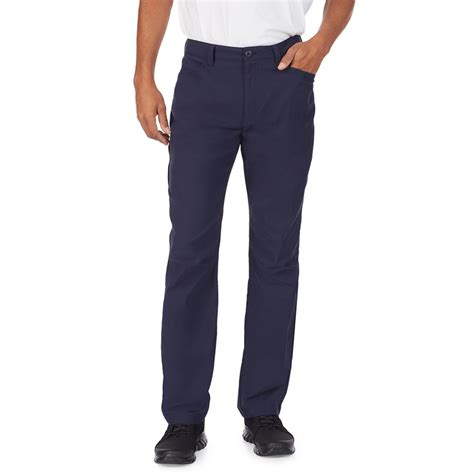nylon: (159, 38, 319, 423)
